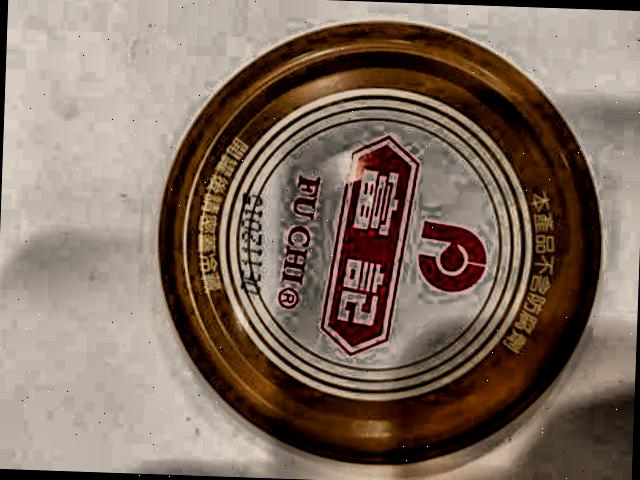Almennt: (125, 8, 640, 480)
